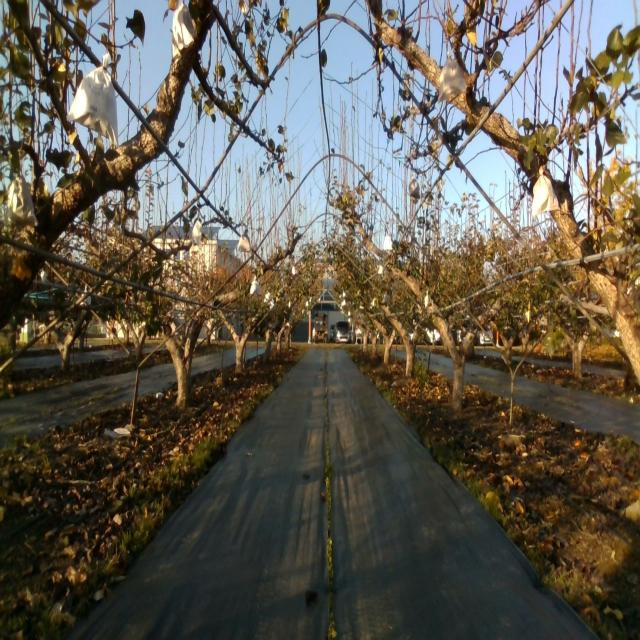pearbags: (68, 46, 119, 148), (4, 173, 38, 226), (436, 52, 466, 101), (172, 0, 193, 60), (532, 167, 558, 213), (408, 173, 421, 199), (192, 220, 203, 247), (238, 232, 250, 254)
